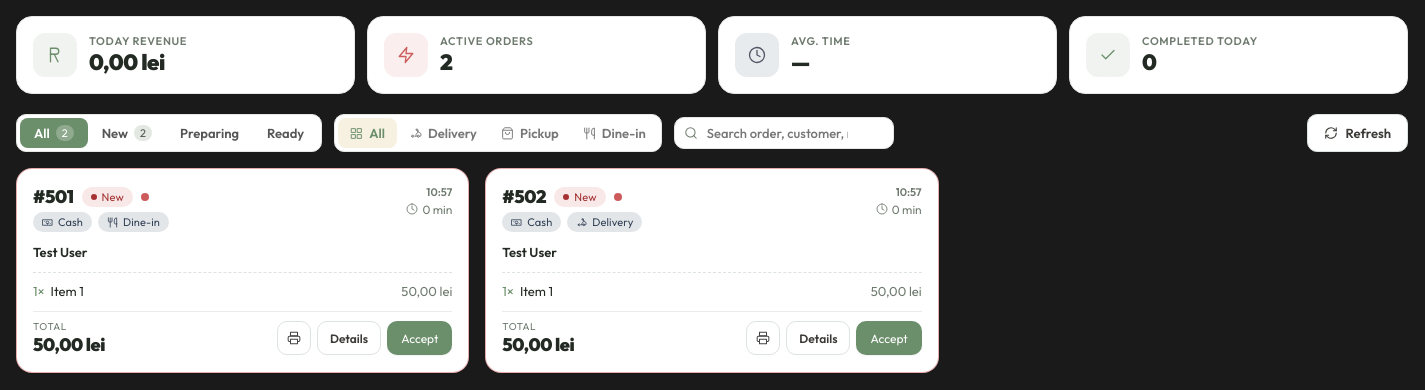
Scenario: OrdersScreen › F-02/D-08: Dine-in type filter matches normalized "dinein" orders (formerly-'local') › a normalized dine-in order shows under the Dine-in type filter and under All; a delivery order is excluded from Dine-in
This screenshot has width=1425, height=390.
Expected: the text "#501" is shown, [33,185,74,208]
Expected: the text "#502" is shown, [502,185,546,208]
Click the button "Dine-in": (614, 133) [571,118,658,148]
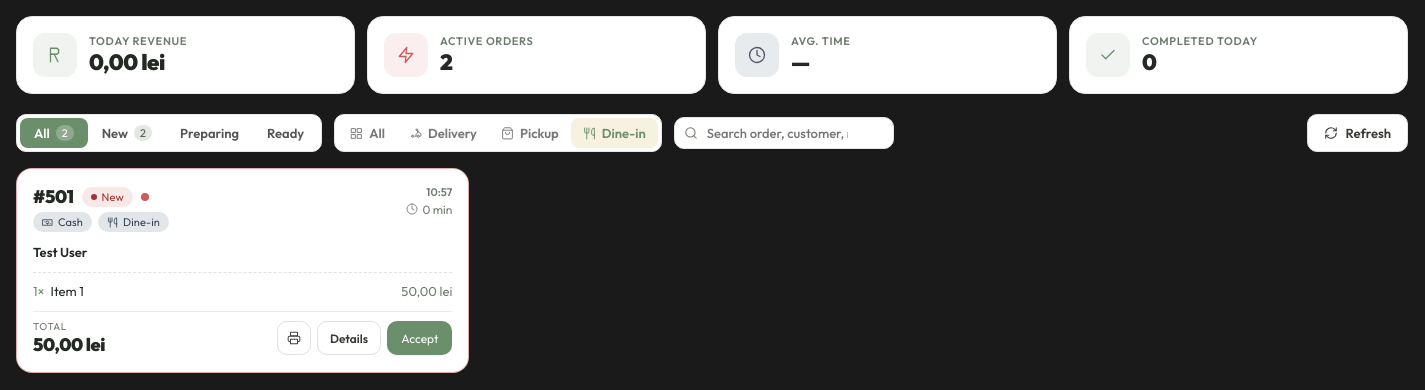
Expected: the text "#501" is shown, [33,185,74,208]
Expected: the text "#502" is gone
